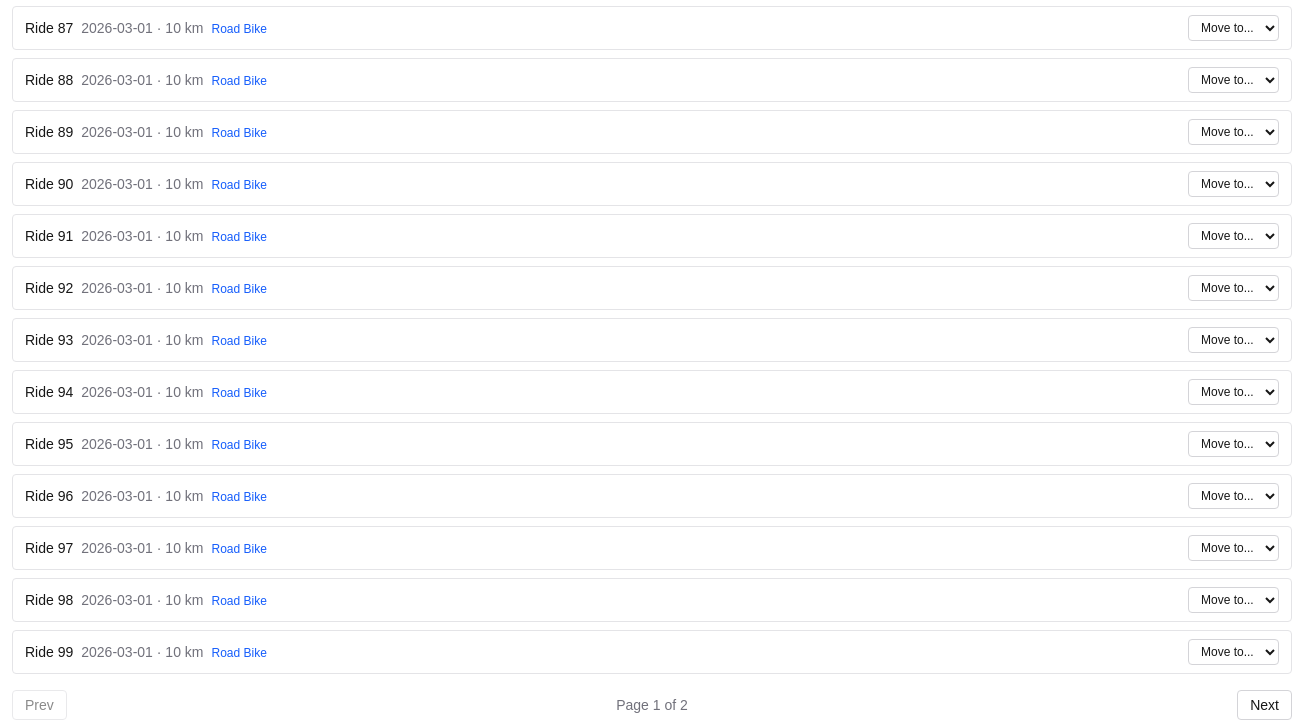
AllRideList › pagination › navigates back to previous page
(page scrolled)
Click the button "Next" at (1265, 705), box [1237,690,1292,719]
(page scrolled)
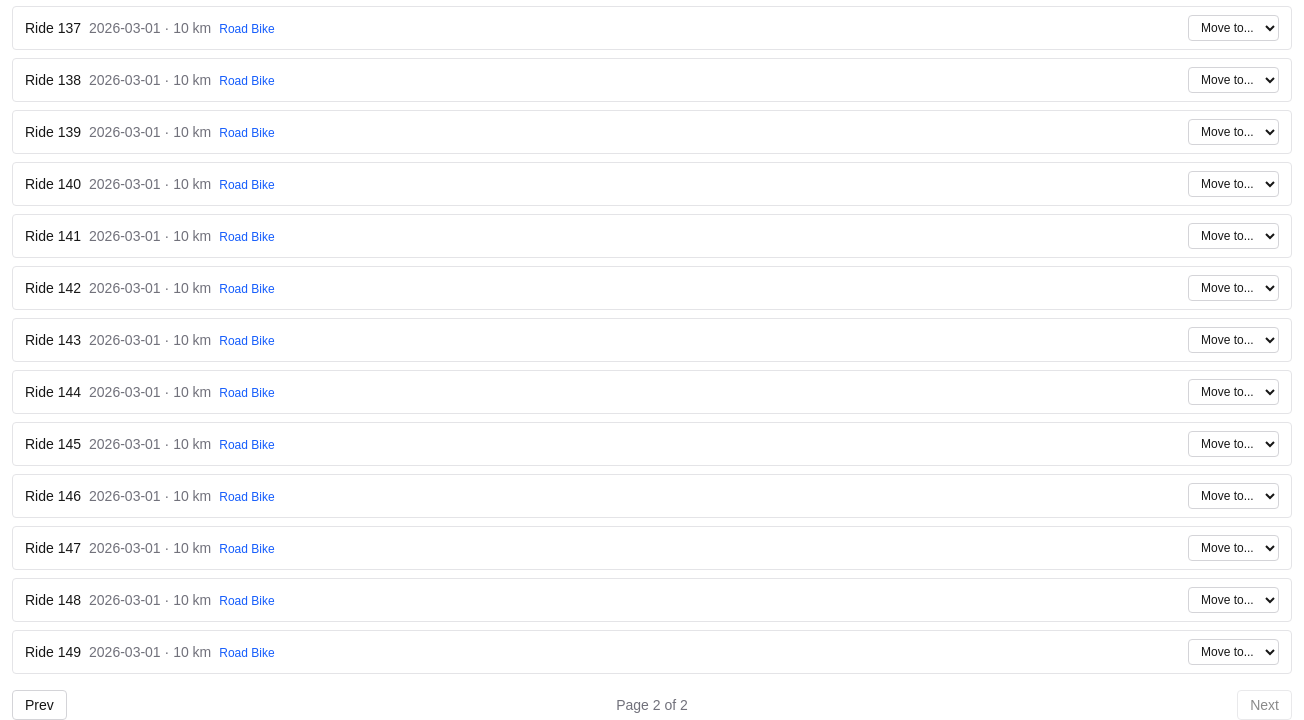
Click the button "Prev" at (39, 705), box [12,690,67,719]
(page scrolled)
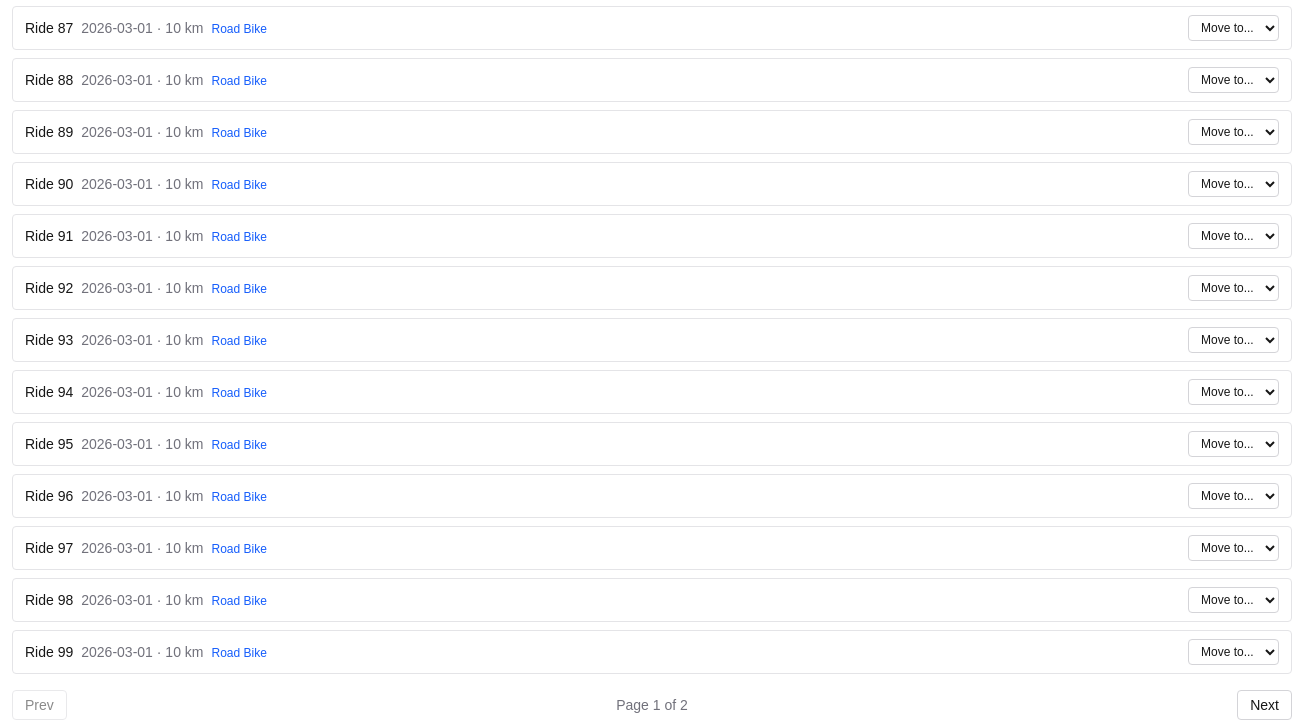
Now the text "Page 1 of 2" is shown, box [616,695,688,715]
